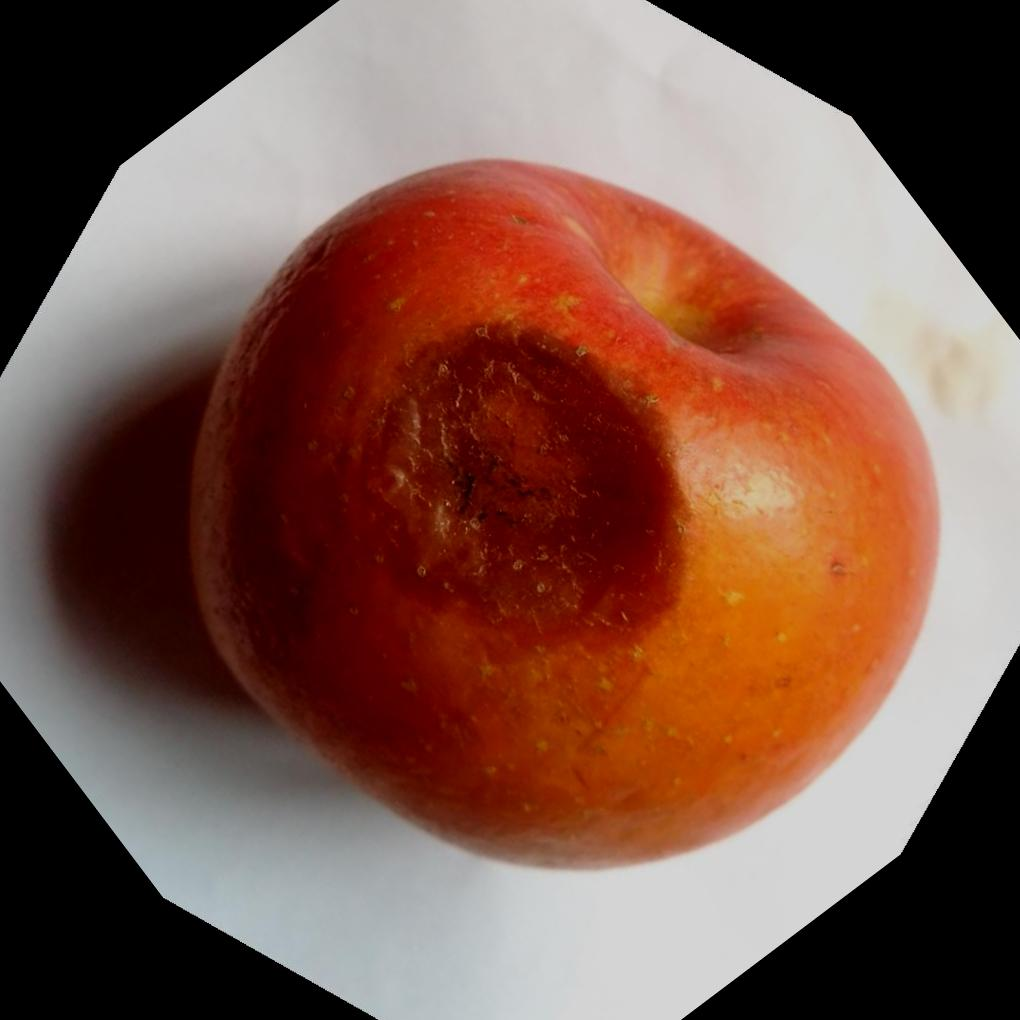FreshOrange: (186, 157, 945, 876)
